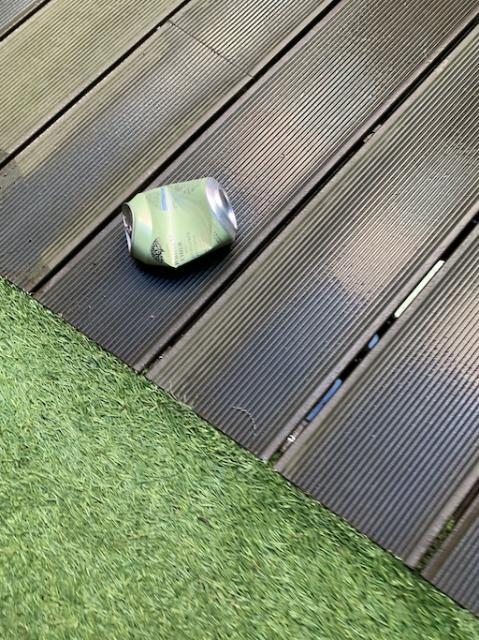metal: (122, 176, 235, 266)
